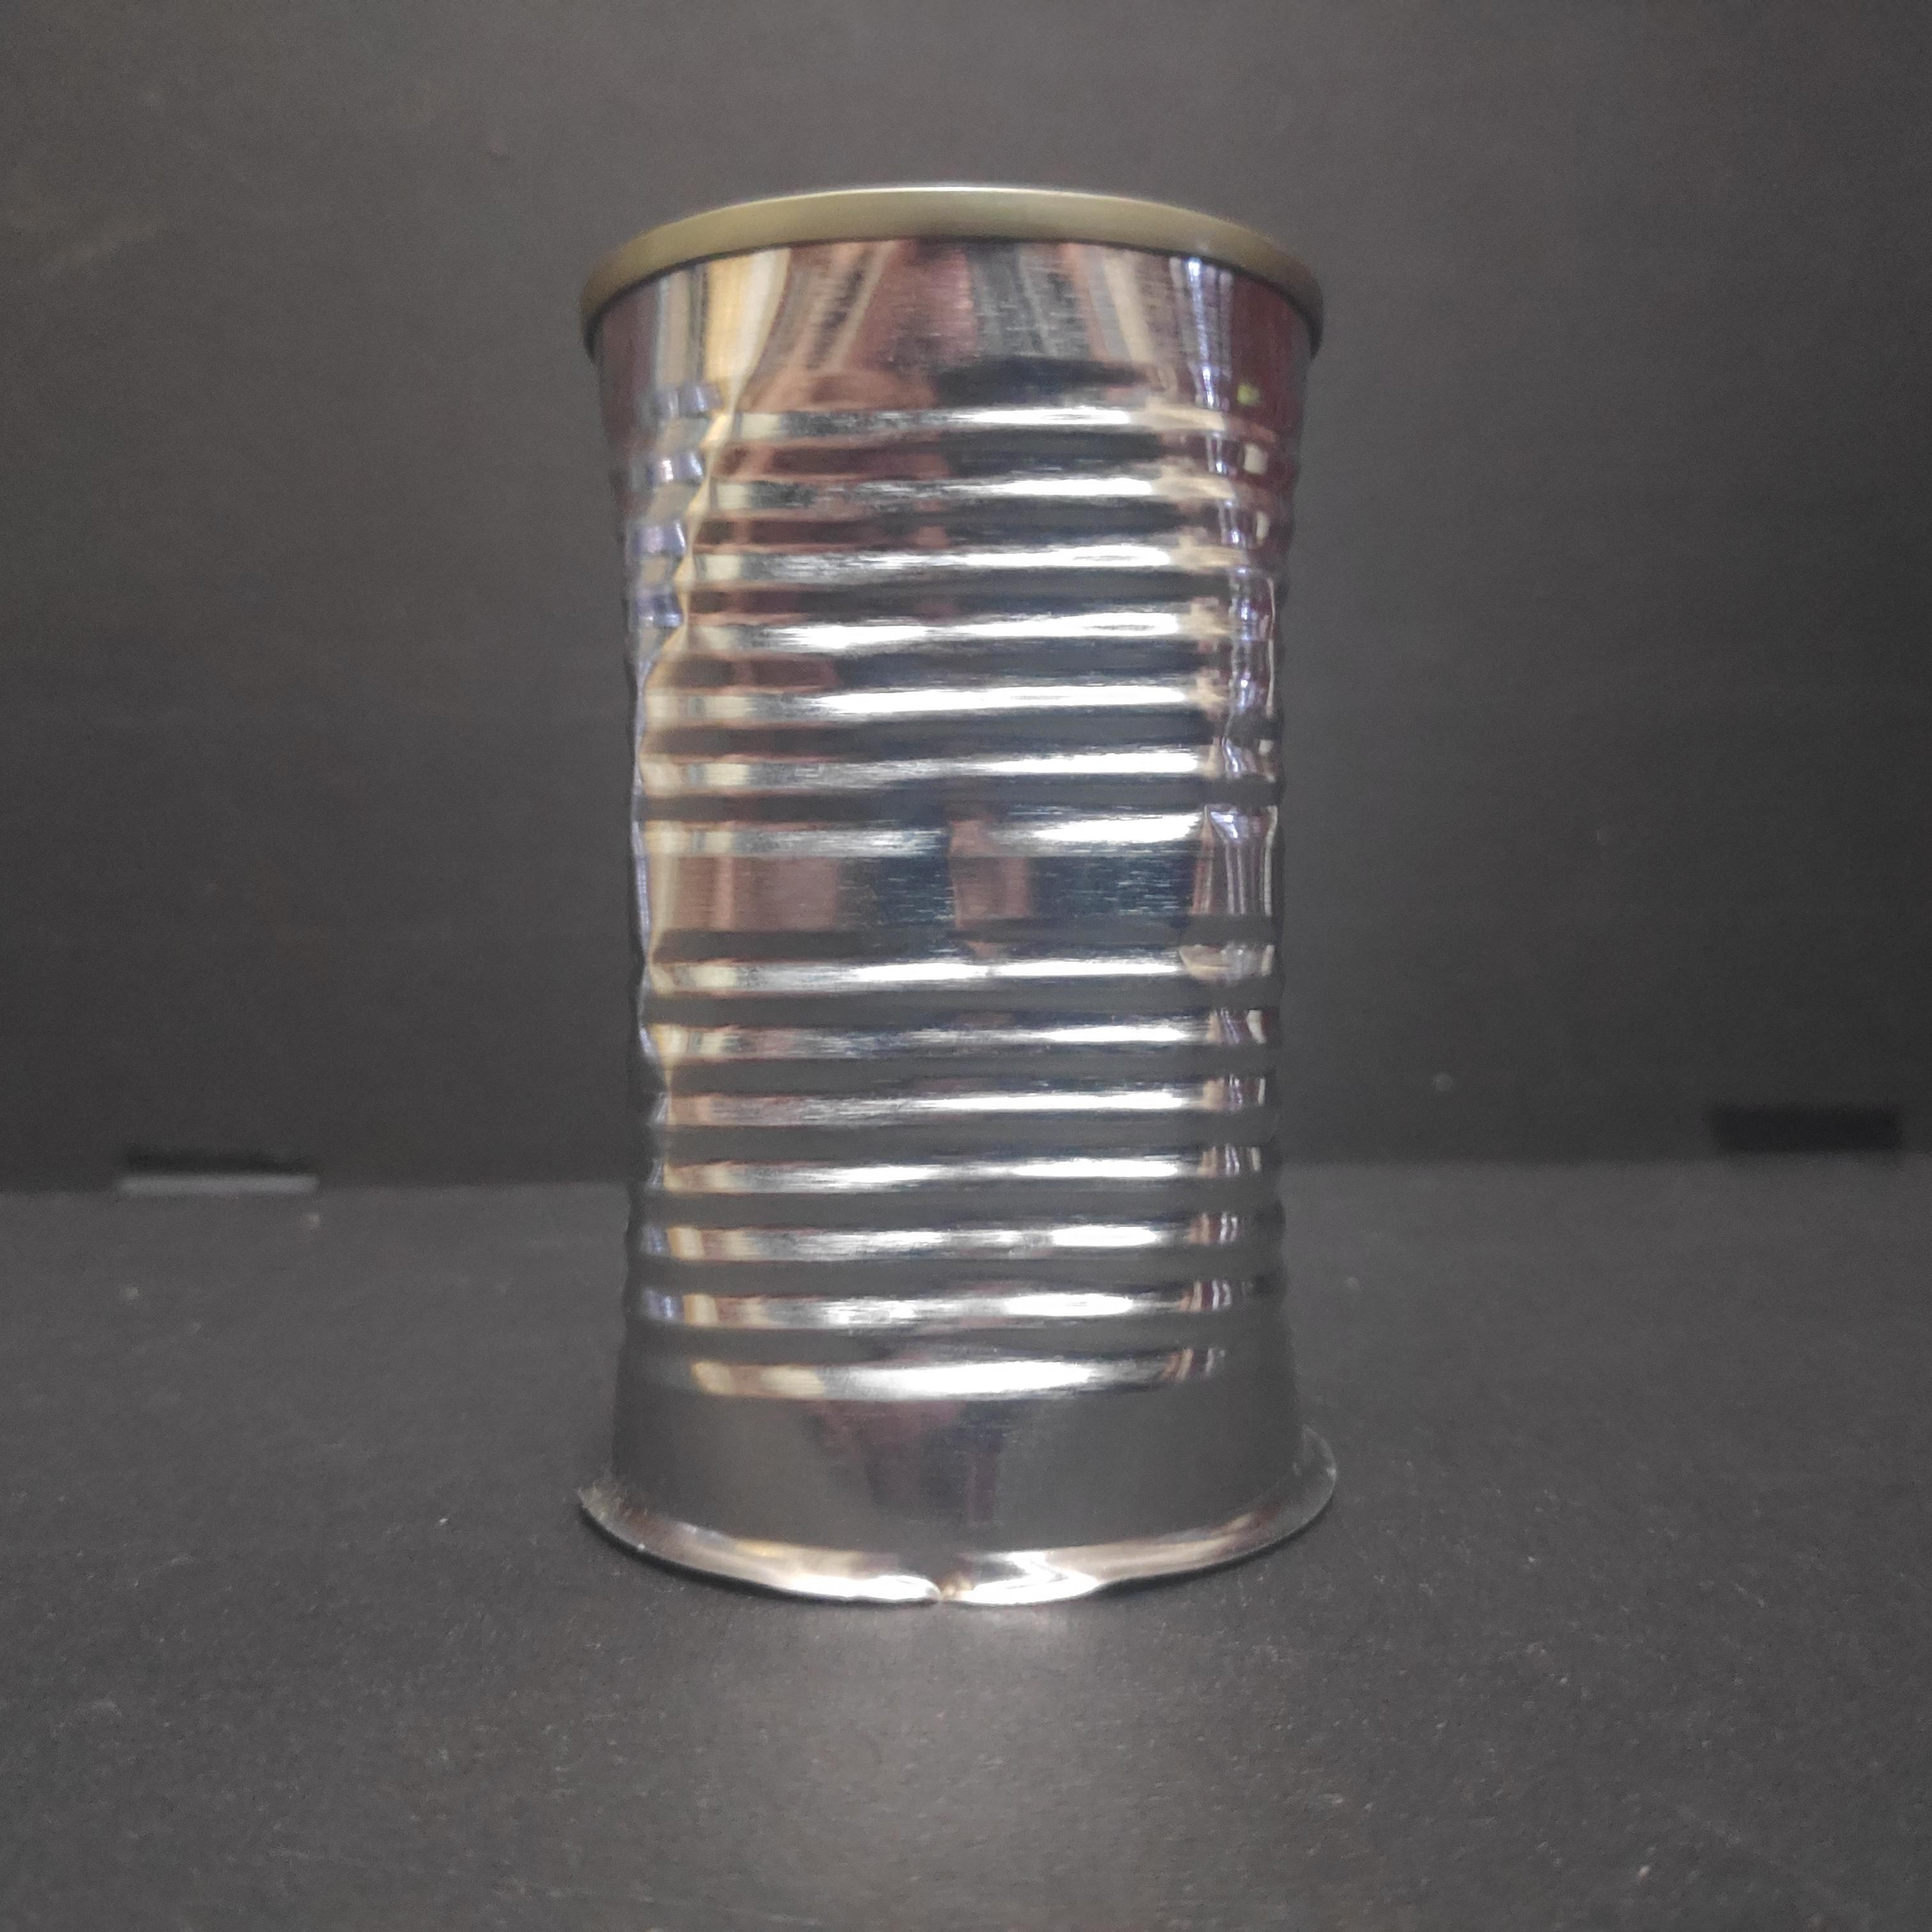Dented: (550, 159, 1364, 1626)
